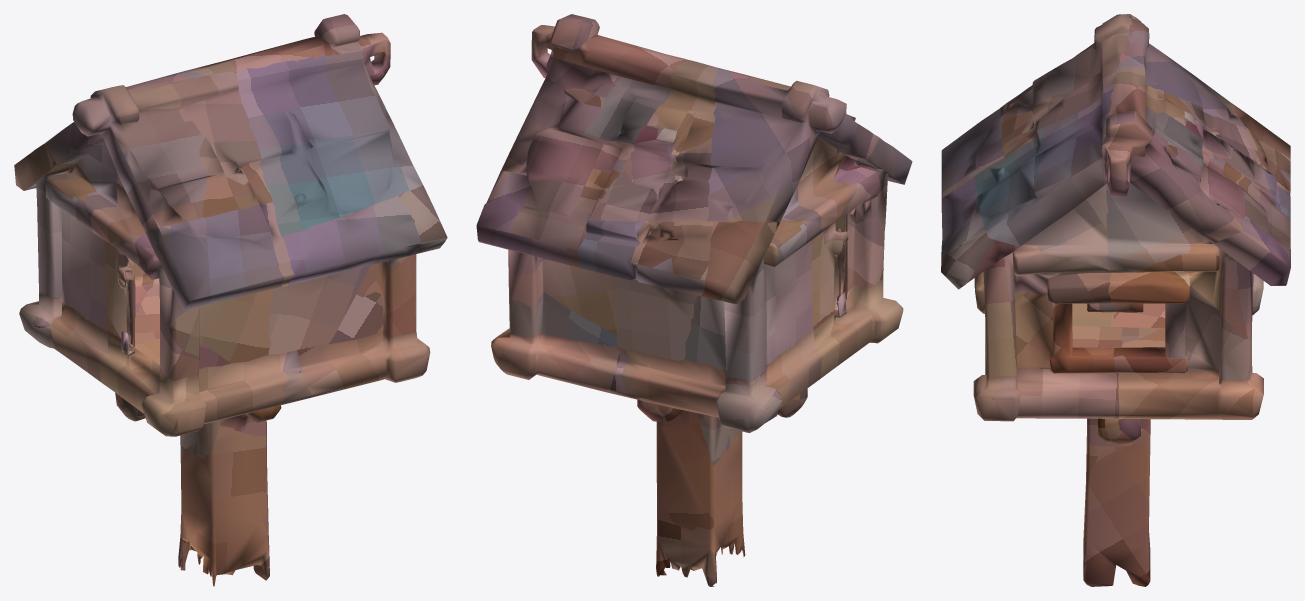
The model's file is signpost.glb.
3 renders of one model, left to right at view 1: azimuth 30°, elevation 25°; view 2: azimuth 150°, elevation 25°; view 3: azimuth 270°, elevation 25°, orthographic. The views are drawn at different scales.
Parts seen in each view (by area): view 1: tripo_node_4a28e665-20b0-401e-84f5-7530cd8d2805; view 2: tripo_node_4a28e665-20b0-401e-84f5-7530cd8d2805; view 3: tripo_node_4a28e665-20b0-401e-84f5-7530cd8d2805.
Boxes of the visible parts, x1,y1,x2,y2 form: tripo_node_4a28e665-20b0-401e-84f5-7530cd8d2805: [14, 14, 447, 586]; tripo_node_4a28e665-20b0-401e-84f5-7530cd8d2805: [476, 14, 912, 586]; tripo_node_4a28e665-20b0-401e-84f5-7530cd8d2805: [941, 14, 1290, 586].
Size of the model in its own units: 0.6086 by 0.9991 by 0.6151.
1 material, 1 textured.
